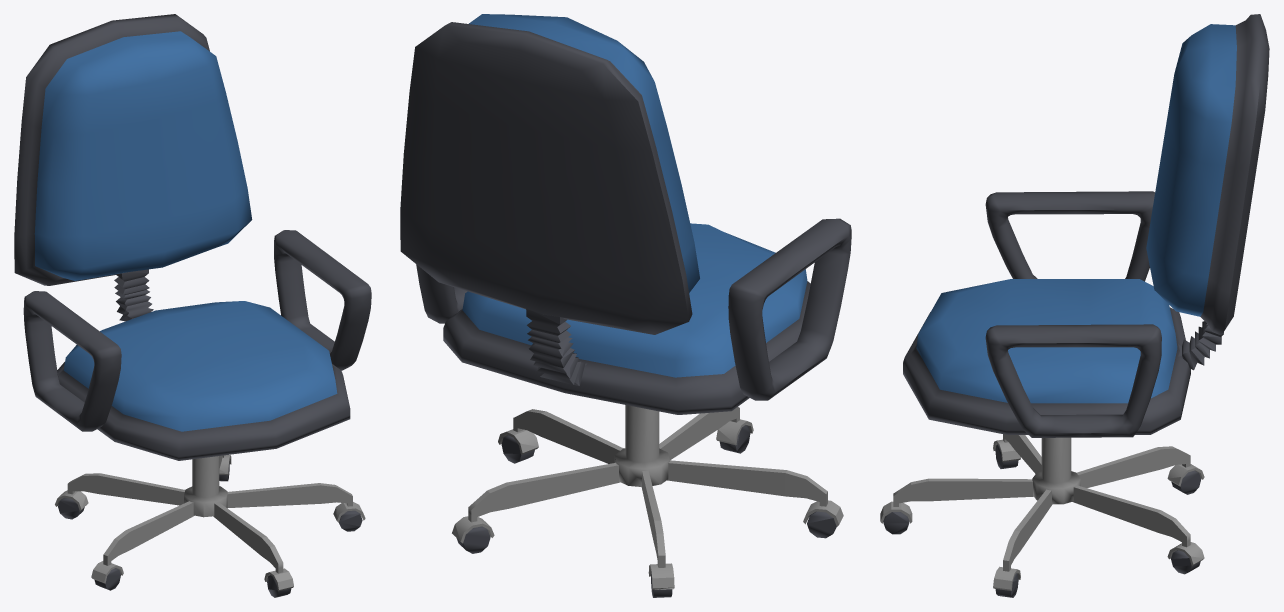
Rendered from office-chair.glb.
3 renders of one model, left to right at view 1: azimuth 30°, elevation 25°; view 2: azimuth 150°, elevation 25°; view 3: azimuth 270°, elevation 25°, orthographic. The views are drawn at different scales.
Parts seen in each view (by area): view 1: office-chair; view 2: office-chair; view 3: office-chair.
Part boxes in pixels (x1=…): office-chair: x1=14, y1=14, x2=371, y2=597; office-chair: x1=400, y1=14, x2=851, y2=597; office-chair: x1=880, y1=14, x2=1269, y2=597.
Size of the model in its own units: 0.64 by 1 by 0.7159.
